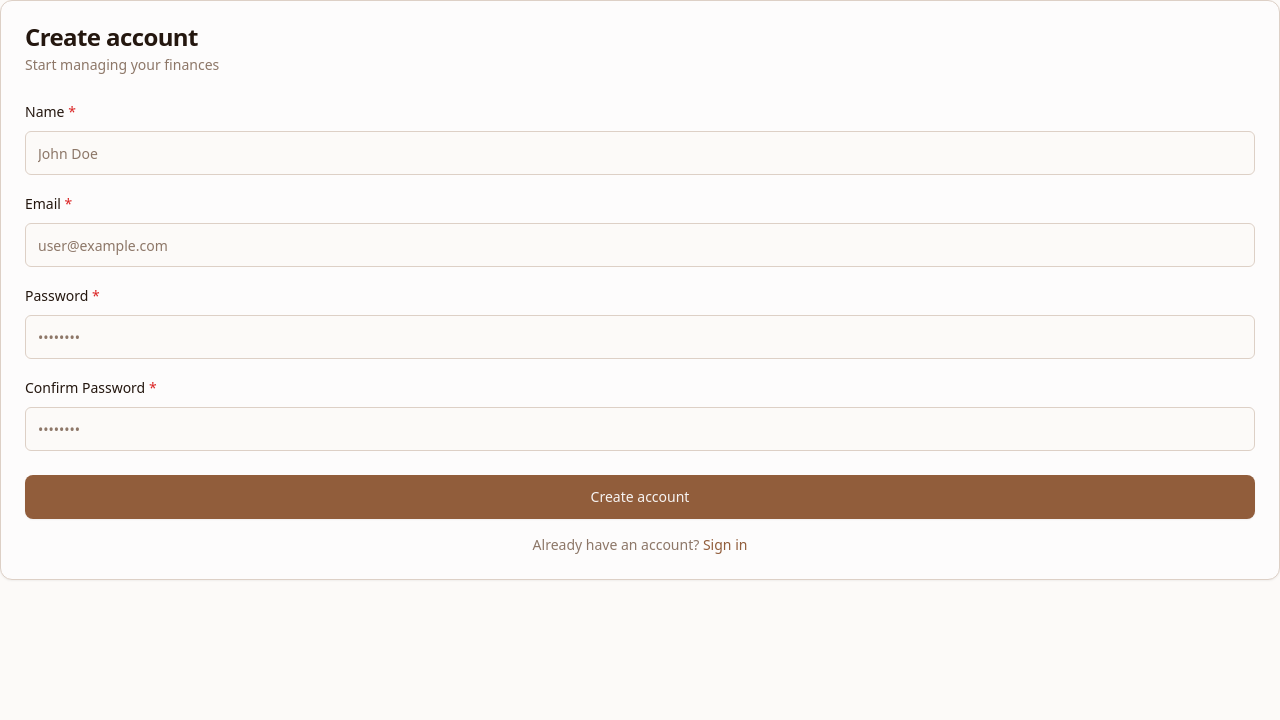
Test: RegisterPage › shows validation errors when submitting with empty fields
The width and height of the screenshot is (1280, 720).
Click the button "Create account" at (640,497), box [25,475,1255,519]
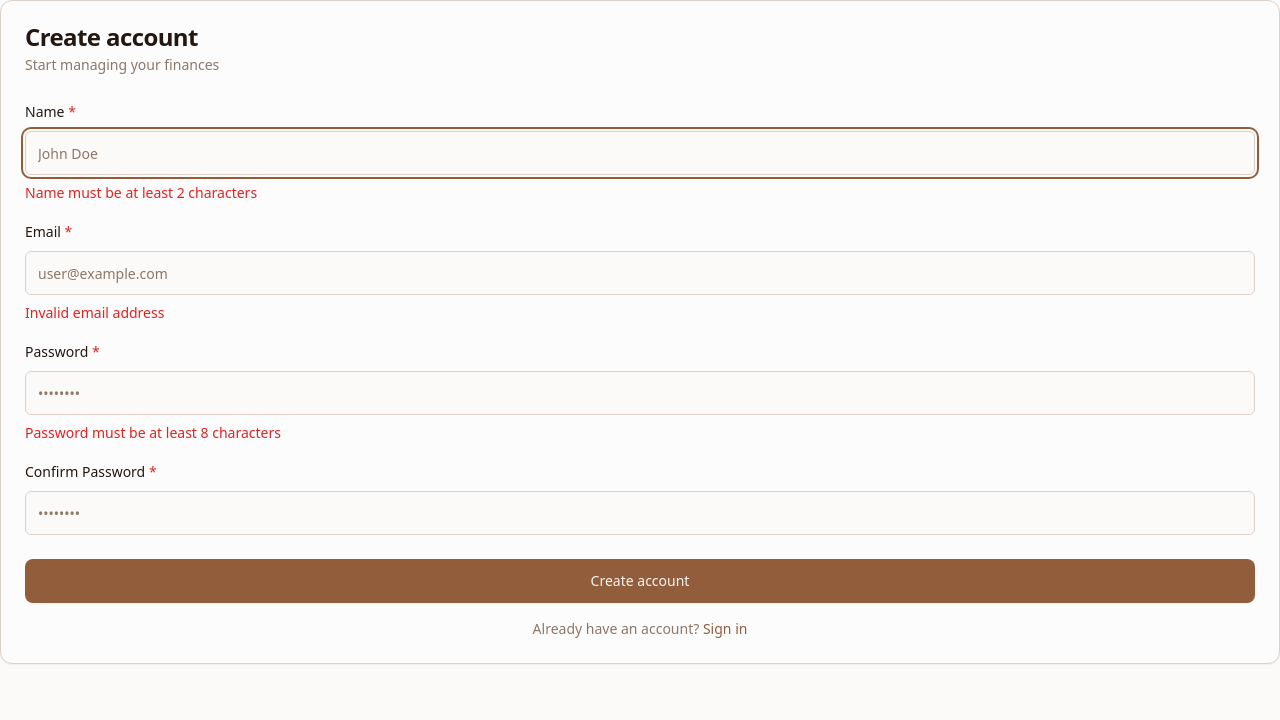
Now the text "Name must be at least 2 characters" is shown, box [25,183,257,202]
Now the text "Invalid email address" is shown, box [25,303,164,322]
Now the text "Password must be at least 8 characters" is shown, box [25,423,281,442]
